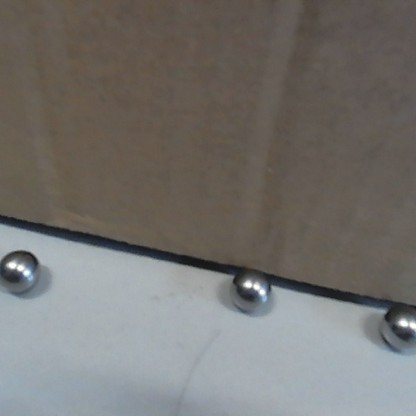ironball: (227, 268, 273, 314), (378, 298, 414, 354), (0, 246, 38, 293)
